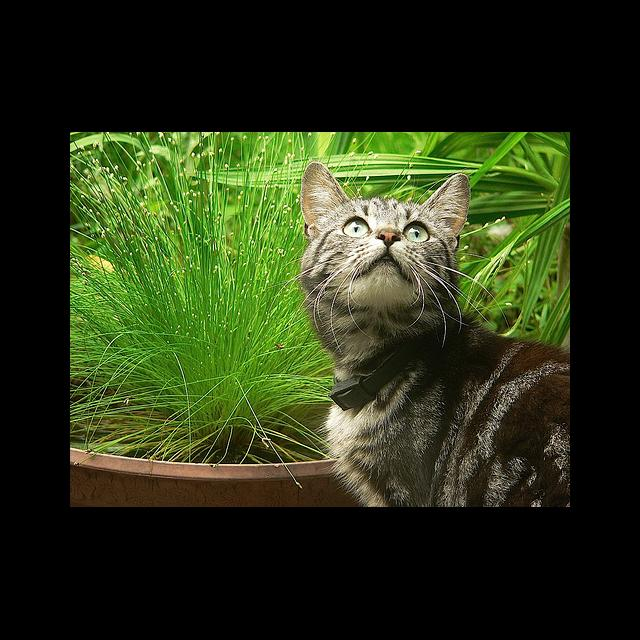animals: (313, 164, 463, 250)
